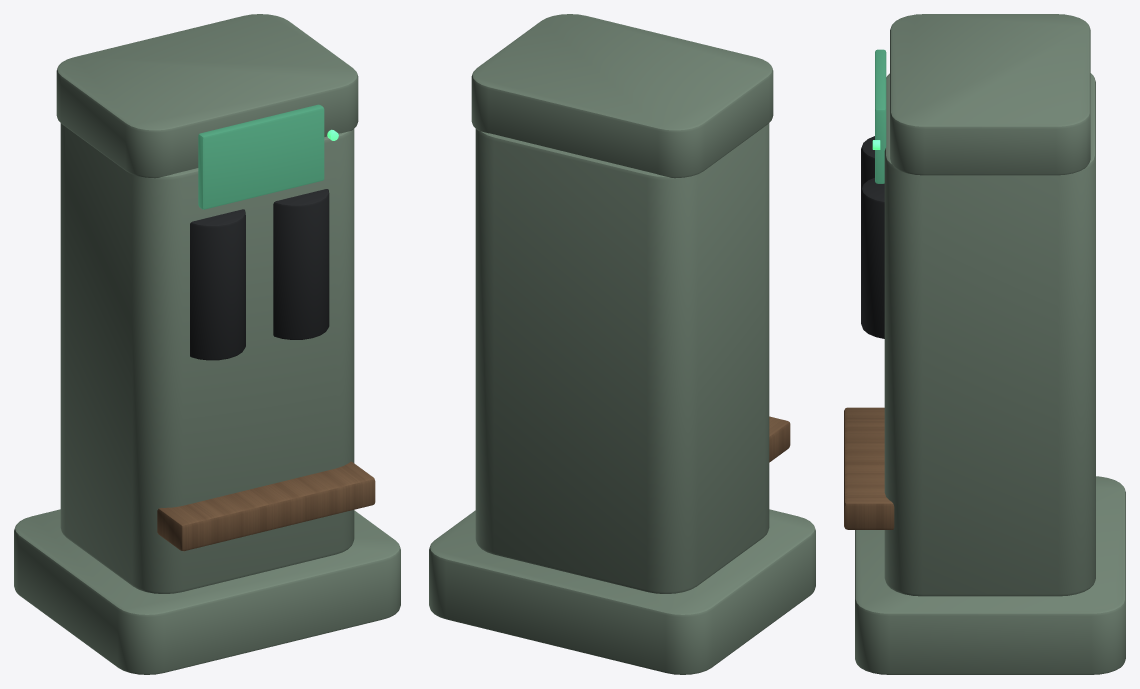
Rendered from club_cleaner_high_end.glb.
3 renders of one model, left to right at view 1: azimuth 30°, elevation 25°; view 2: azimuth 150°, elevation 25°; view 3: azimuth 270°, elevation 25°, orthographic.
Visible parts, largest first — view 1: ClubCleaner_Cabinet, ClubCleaner_Base, ClubCleaner_Lid, ClubCleaner_ControlPanel, ClubCleaner_DripTray, ClubCleaner_Brush_2, ClubCleaner_Brush_1; view 2: ClubCleaner_Cabinet, ClubCleaner_Lid, ClubCleaner_Base, ClubCleaner_DripTray; view 3: ClubCleaner_Cabinet, ClubCleaner_Lid, ClubCleaner_Base, ClubCleaner_DripTray, ClubCleaner_Brush_2, ClubCleaner_ControlPanel, ClubCleaner_Brush_1.
Boxes of the visible parts, box(x1,y1,x2,y2) form: ClubCleaner_Cabinet: box(60, 123, 354, 593); ClubCleaner_Base: box(14, 509, 400, 674); ClubCleaner_Lid: box(56, 14, 358, 178); ClubCleaner_ControlPanel: box(198, 104, 324, 209); ClubCleaner_DripTray: box(157, 461, 375, 551); ClubCleaner_Brush_2: box(273, 189, 329, 339); ClubCleaner_Brush_1: box(190, 209, 245, 360); ClubCleaner_Cabinet: box(475, 123, 769, 593); ClubCleaner_Lid: box(471, 14, 773, 178); ClubCleaner_Base: box(429, 509, 815, 674); ClubCleaner_DripTray: box(769, 416, 790, 462); ClubCleaner_Cabinet: box(884, 73, 1095, 596); ClubCleaner_Lid: box(890, 14, 1090, 175); ClubCleaner_Base: box(855, 476, 1125, 674); ClubCleaner_DripTray: box(844, 407, 894, 529); ClubCleaner_Brush_2: box(861, 177, 884, 338); ClubCleaner_ControlPanel: box(875, 49, 886, 183); ClubCleaner_Brush_1: box(861, 136, 874, 189).
Size of what is drawn, in the model's own units: 0.52 by 0.9405 by 0.4472.
5 materials, 1 textured.
